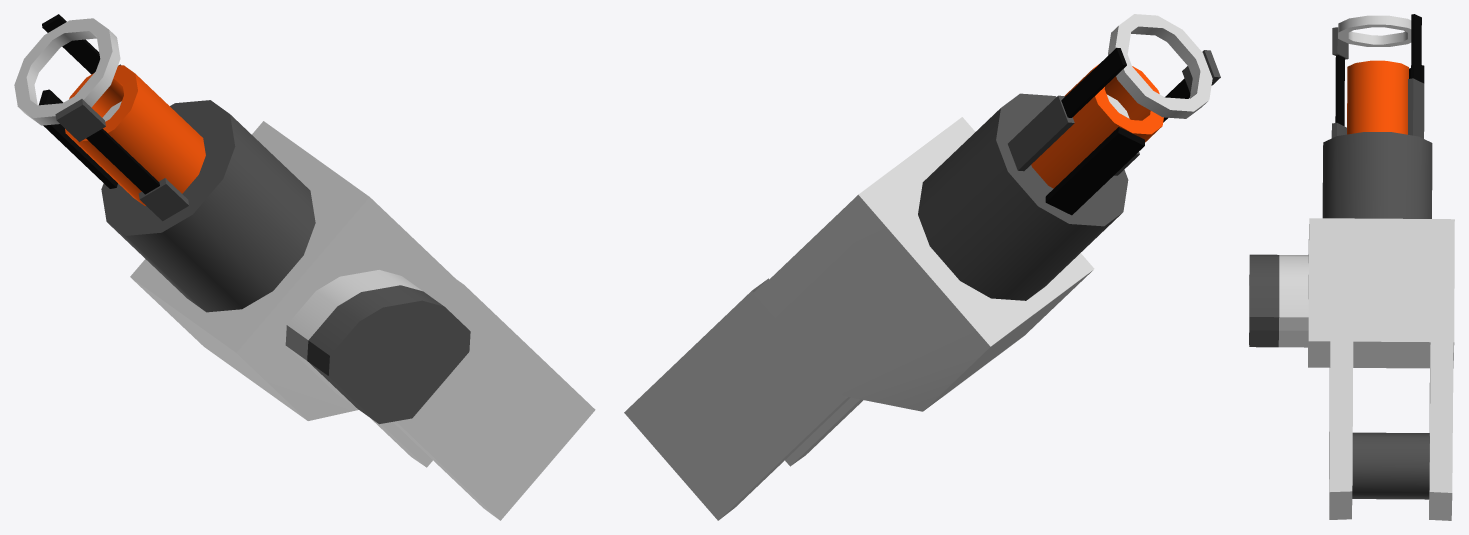
File: brazopinza.obj
The picture shows the model from 3 angles, left to right: view 1: azimuth 30°, elevation 25°; view 2: azimuth 150°, elevation 25°; view 3: azimuth 270°, elevation 25°; orthographic projection. The views are drawn at different scales.
Parts seen in each view (by area): view 1: RoverModificado.005_SpacialRoverExploreralumWhite, RoverModificado.005_SpacialRoverExploreralumGray, RoverModificado.005_SpacialRoverExploreralumOrange, RoverModificado.005_SpacialRoverExploreralumBlack; view 2: RoverModificado.005_SpacialRoverExploreralumWhite, RoverModificado.005_SpacialRoverExploreralumGray, RoverModificado.005_SpacialRoverExploreralumBlack, RoverModificado.005_SpacialRoverExploreralumOrange; view 3: RoverModificado.005_SpacialRoverExploreralumWhite, RoverModificado.005_SpacialRoverExploreralumGray, RoverModificado.005_SpacialRoverExploreralumOrange, RoverModificado.005_SpacialRoverExploreralumBlack.
Part boxes in pixels (x1,y1,x2,y2): RoverModificado.005_SpacialRoverExploreralumWhite: [14, 18, 595, 520]; RoverModificado.005_SpacialRoverExploreralumGray: [55, 64, 470, 424]; RoverModificado.005_SpacialRoverExploreralumOrange: [65, 65, 205, 205]; RoverModificado.005_SpacialRoverExploreralumBlack: [39, 14, 159, 194]; RoverModificado.005_SpacialRoverExploreralumWhite: [624, 14, 1212, 520]; RoverModificado.005_SpacialRoverExploreralumGray: [918, 50, 1220, 300]; RoverModificado.005_SpacialRoverExploreralumBlack: [1045, 47, 1190, 215]; RoverModificado.005_SpacialRoverExploreralumOrange: [1031, 64, 1163, 188]; RoverModificado.005_SpacialRoverExploreralumWhite: [1278, 15, 1454, 520]; RoverModificado.005_SpacialRoverExploreralumGray: [1249, 27, 1432, 499]; RoverModificado.005_SpacialRoverExploreralumOrange: [1347, 60, 1408, 134]; RoverModificado.005_SpacialRoverExploreralumBlack: [1335, 14, 1424, 126].
Bounding box in the file's own units: 1.13 × 1.13 × 0.5505.
